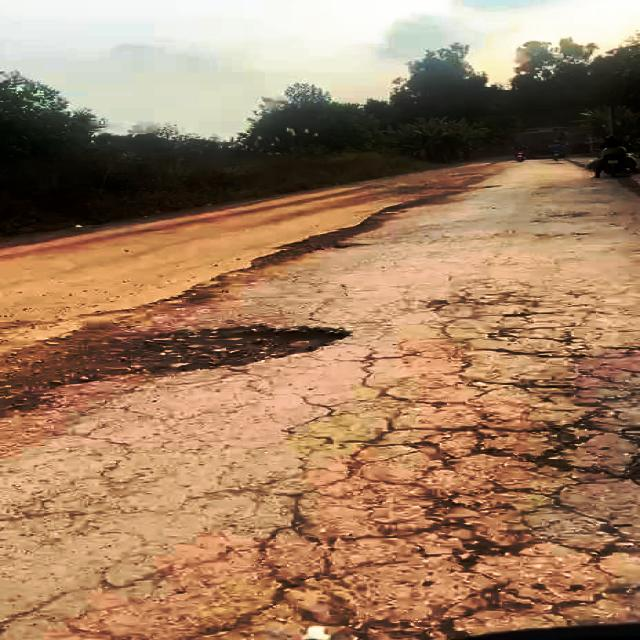pothole: (21, 321, 361, 388)
